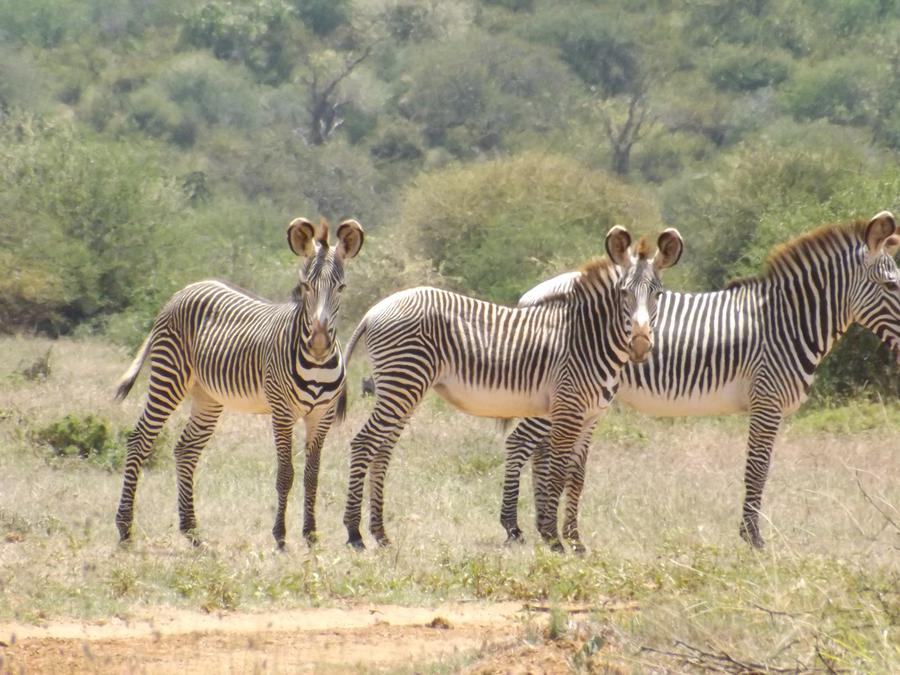zebra_grevys: (362, 273, 599, 422)
